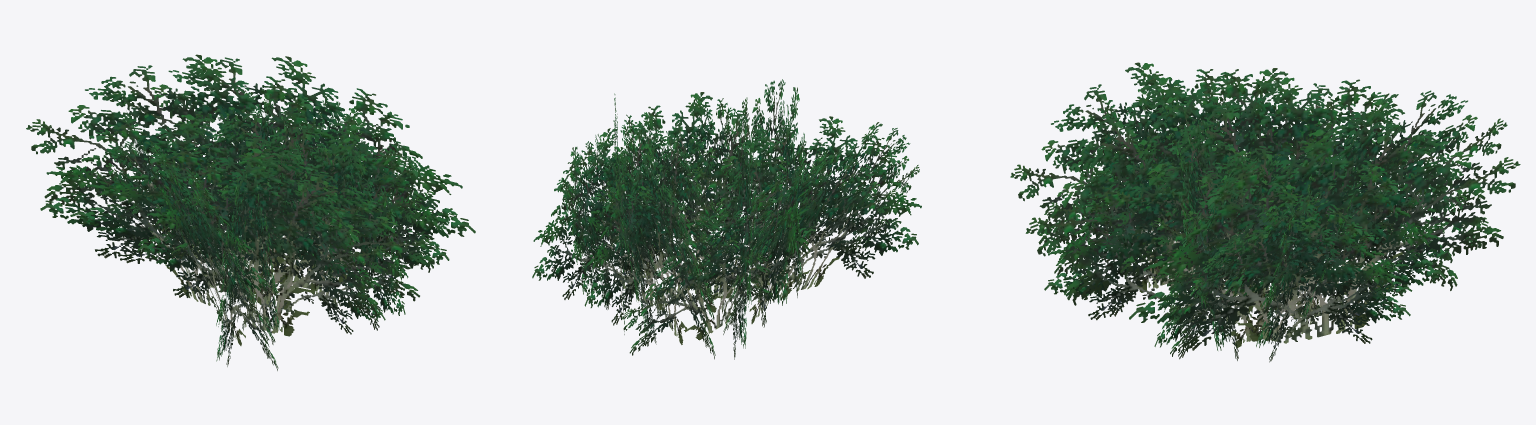
Rendered from far.glb.
The picture shows the model from 3 angles, left to right: view 1: azimuth 30°, elevation 25°; view 2: azimuth 150°, elevation 25°; view 3: azimuth 270°, elevation 25°; orthographic projection. The views are drawn at different scales.
Parts seen in each view (by area): view 1: lod2, lod1; view 2: lod1, lod2; view 3: lod1, lod2.
Boxes of the visible parts, bbox=[...] form: lod2: bbox=[26, 54, 475, 309]; lod1: bbox=[90, 90, 457, 370]; lod1: bbox=[532, 98, 921, 355]; lod2: bbox=[555, 79, 815, 359]; lod1: bbox=[1010, 62, 1490, 359]; lod2: bbox=[1025, 69, 1520, 362].
Size of the model in its own units: 6.44 by 4.28 by 8.29.
1 material, 1 textured.
